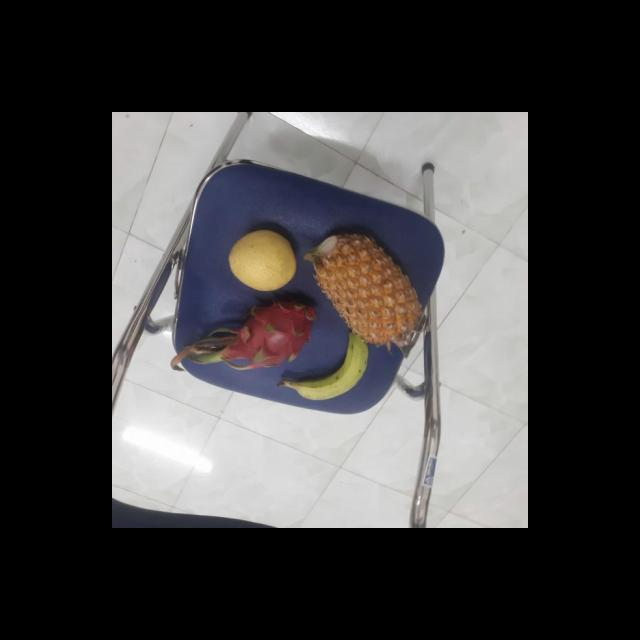banana: (286, 332, 378, 404)
pear: (227, 228, 301, 288)
pineapple: (308, 230, 422, 344)
pitaya: (218, 293, 324, 367)
